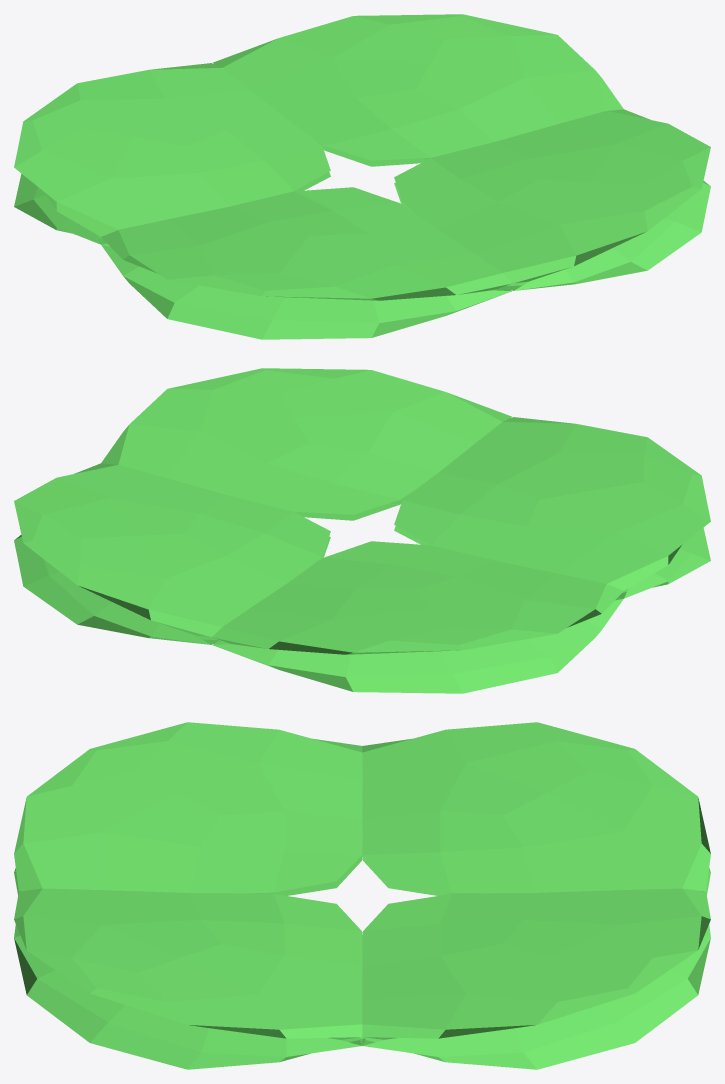
File: lechuga.fbx
The picture shows the model from 3 angles, top to bottom: view 1: azimuth 30°, elevation 25°; view 2: azimuth 150°, elevation 25°; view 3: azimuth 270°, elevation 25°; orthographic projection. The views are drawn at different scales.
Visible parts, largest first — view 1: Lechuga; view 2: Lechuga; view 3: Lechuga.
Boxes of the visible parts, x1=… form: Lechuga: x1=14, y1=14, x2=710, y2=339; Lechuga: x1=14, y1=368, x2=710, y2=693; Lechuga: x1=14, y1=722, x2=710, y2=1069.
Bounding box in the file's own units: 1.81 × 0.148 × 1.75.
